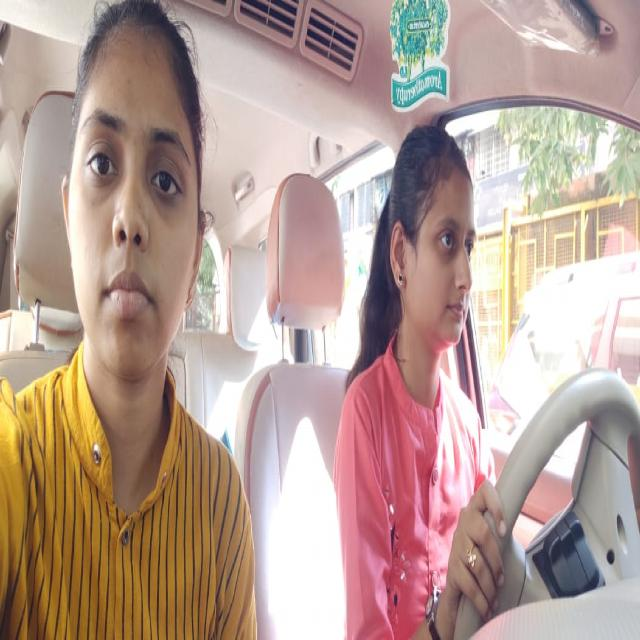person: (71, 11, 203, 375), (384, 139, 474, 346)
